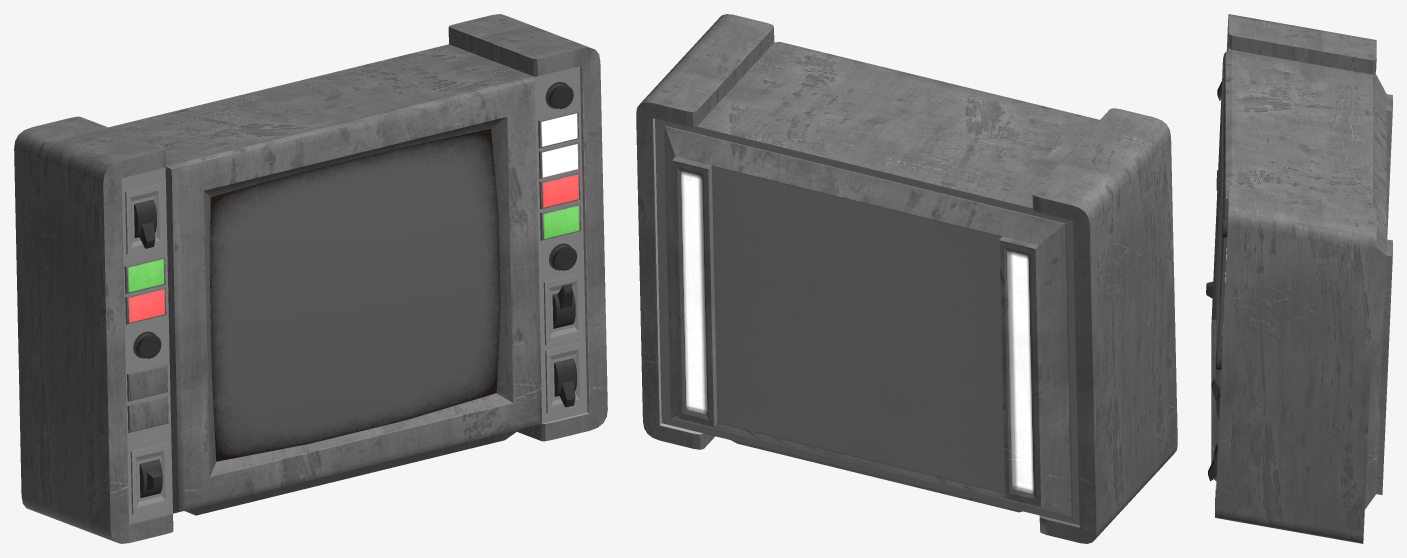
File: ip_mon2.glb
The picture shows the model from 3 angles, left to right: view 1: azimuth 30°, elevation 25°; view 2: azimuth 150°, elevation 25°; view 3: azimuth 270°, elevation 25°; orthographic projection. The views are drawn at different scales.
Visible parts, largest first — view 1: O_ip_mon2__Body; view 2: O_ip_mon2__Body; view 3: O_ip_mon2__Body.
Boxes of the visible parts, x1,y1,x2,y2 form: O_ip_mon2__Body: (14,14,607,543); O_ip_mon2__Body: (636,14,1177,543); O_ip_mon2__Body: (1206,14,1392,543).
Bounding box in the file's own units: 0.4531 × 0.3549 × 0.1773.
Materials: 1 (1 with a texture image).
